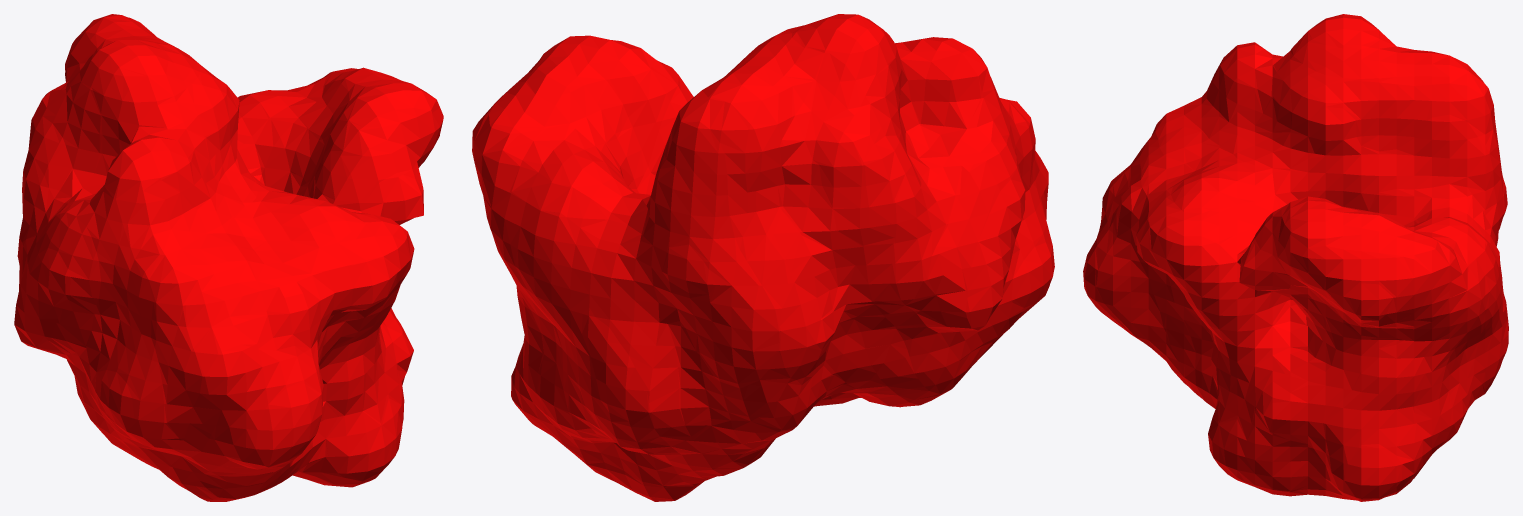
The model's file is gabT_coarse.dae.
The picture shows the model from 3 angles, left to right: view 1: azimuth 30°, elevation 25°; view 2: azimuth 150°, elevation 25°; view 3: azimuth 270°, elevation 25°; orthographic projection. The views are drawn at different scales.
Parts seen in each view (by area): view 1: gabT; view 2: gabT; view 3: gabT.
Boxes of the visible parts, box(x1,y1,x2,y2) form: gabT: box(14, 14, 443, 501); gabT: box(472, 14, 1054, 501); gabT: box(1083, 14, 1508, 501).
Size of the model in its own units: 62.67 by 62.7 by 59.61.
